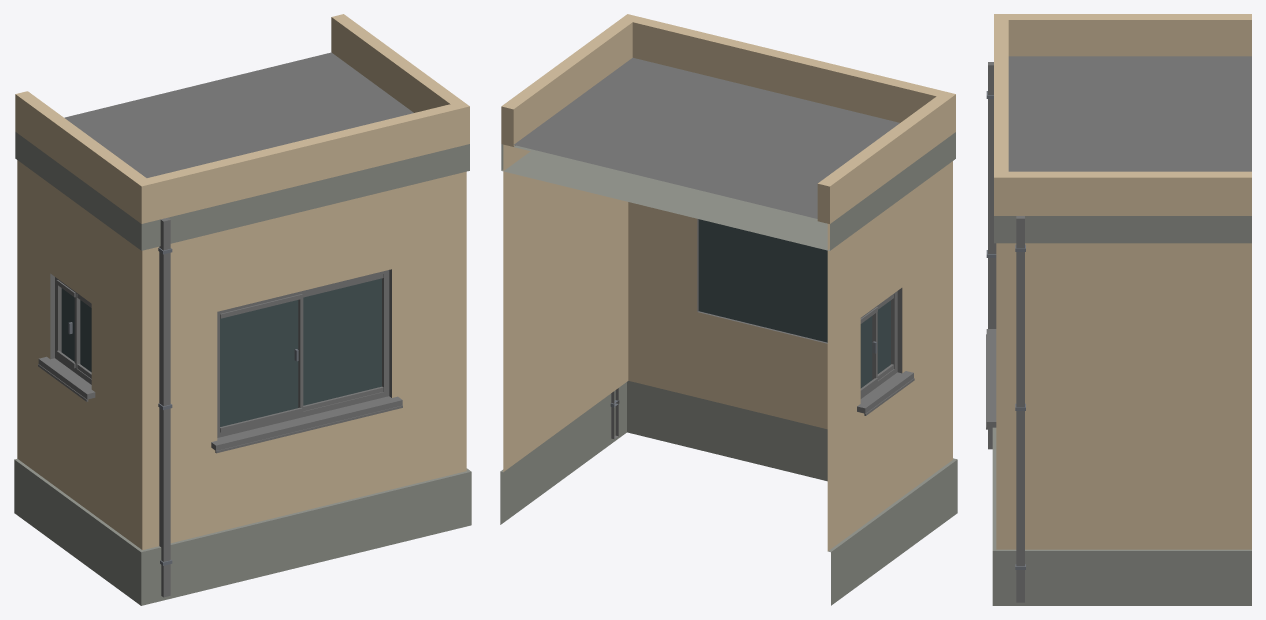
File: base-stair3_close.fbx
The picture shows the model from 3 angles, left to right: view 1: azimuth 30°, elevation 25°; view 2: azimuth 150°, elevation 25°; view 3: azimuth 270°, elevation 25°; orthographic projection. The views are drawn at different scales.
Visible parts, largest first — view 1: a2000/400/base-stair_close; view 2: a2000/400/base-stair_close; view 3: a2000/400/base-stair_close.
Part boxes in pixels (x1,y1,x2,y2): a2000/400/base-stair_close: (14,14,471,605); a2000/400/base-stair_close: (500,14,957,605); a2000/400/base-stair_close: (986,14,1251,605).
Bounding box in the file's own units: 3.33 × 3.9 × 2.2.
